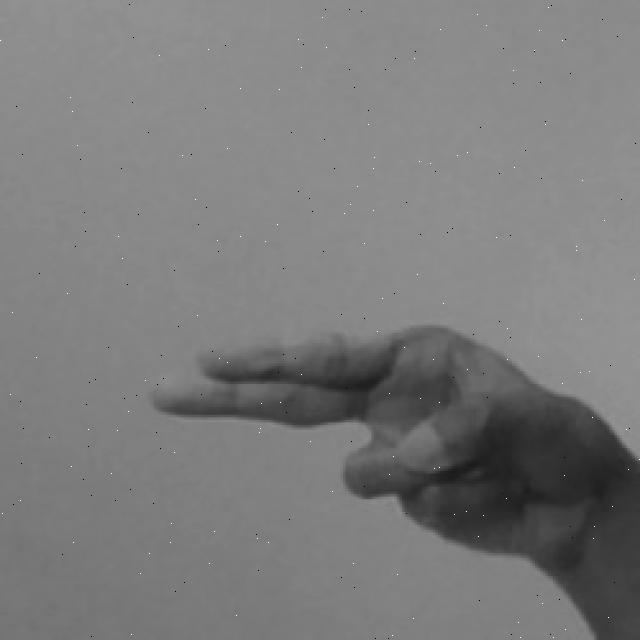H: (141, 310, 640, 640)
